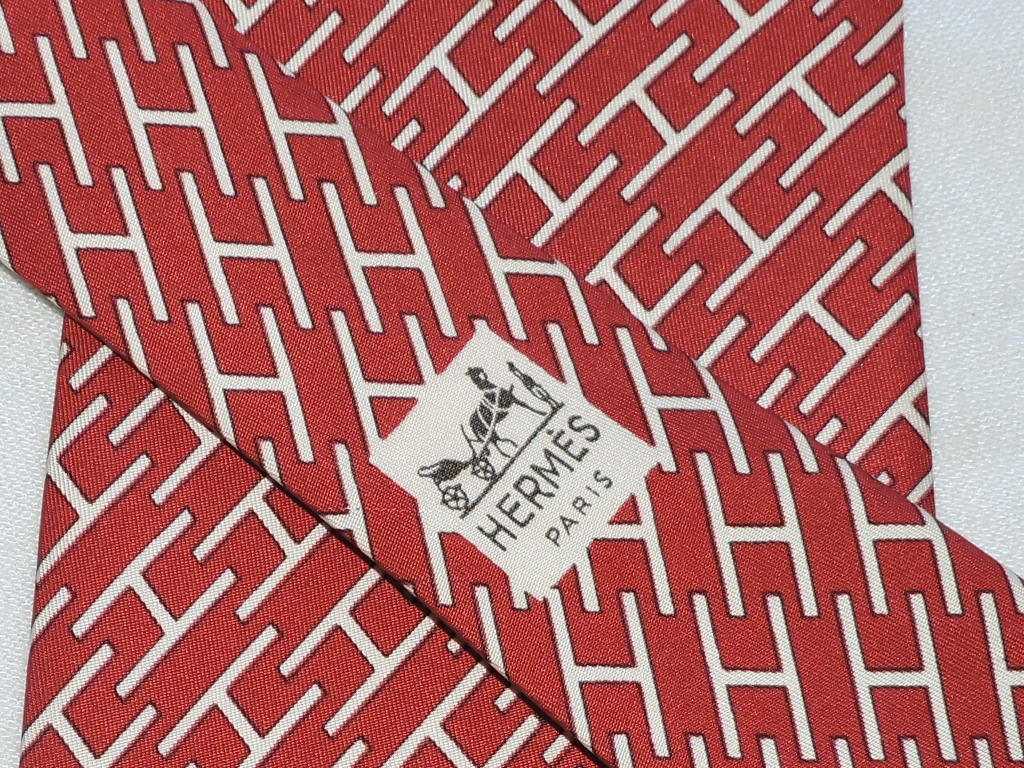HERMES: (385, 333, 637, 562)
